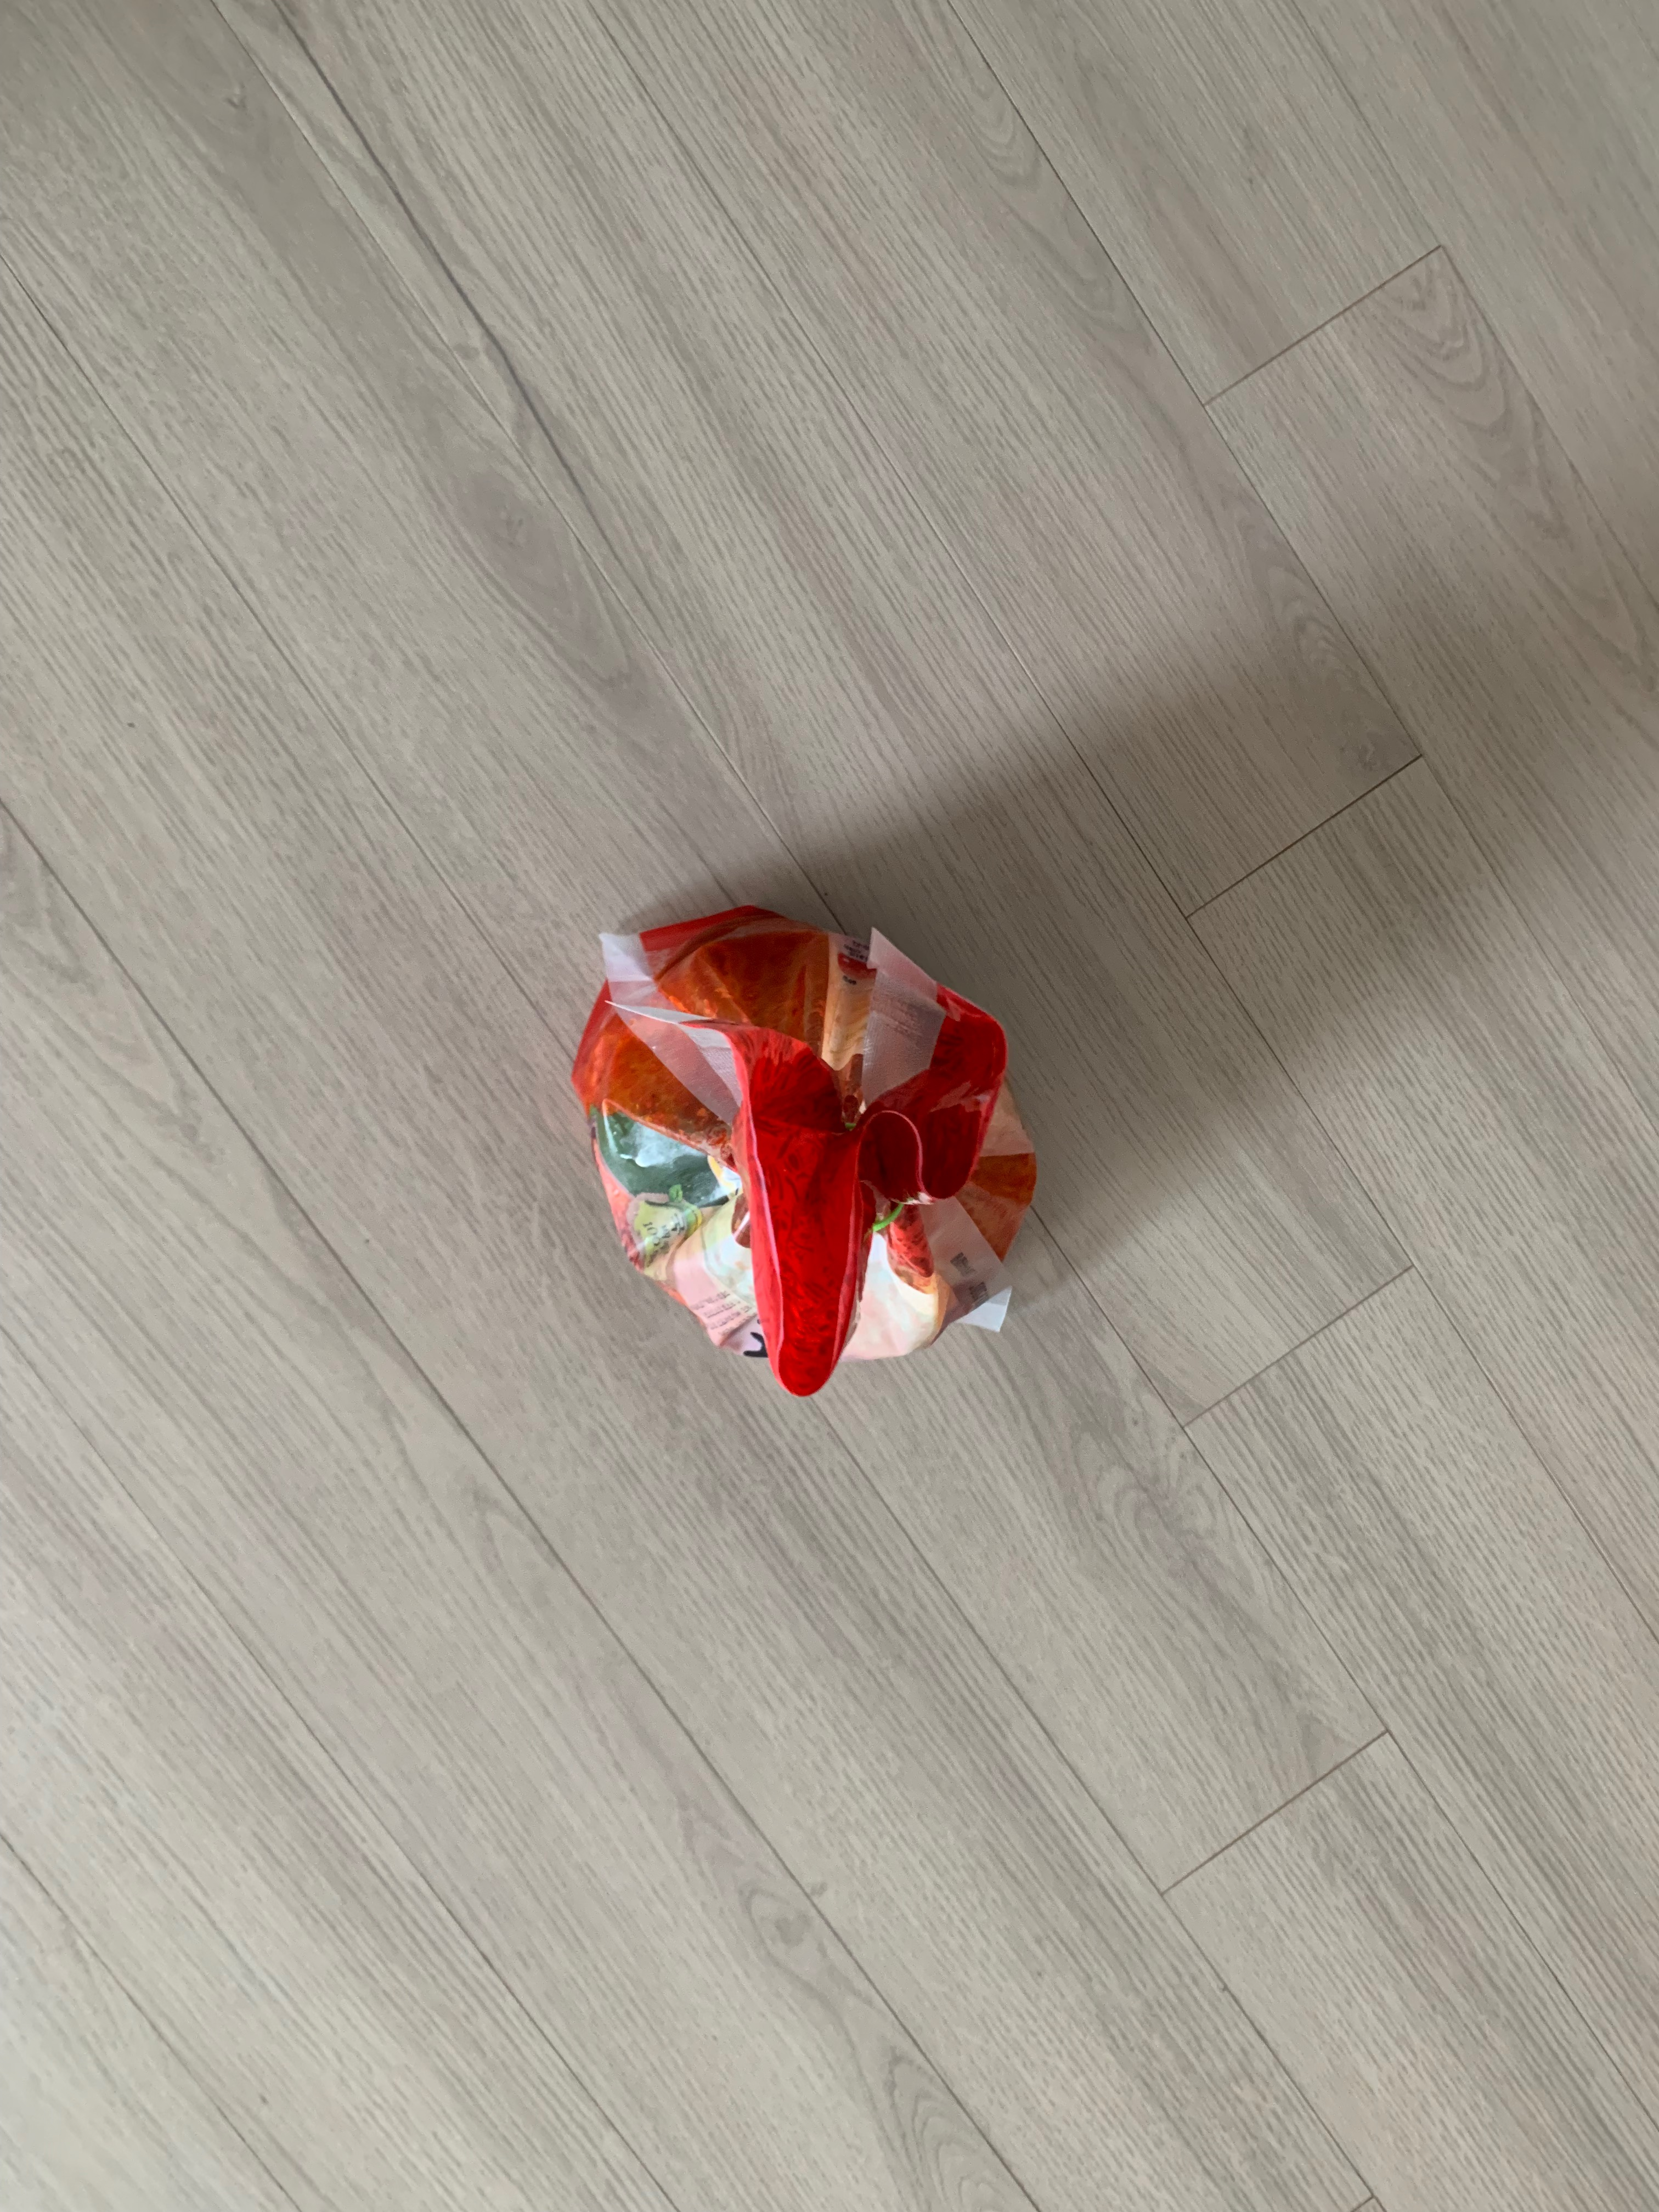kimchi: (572, 906, 1040, 1393)
